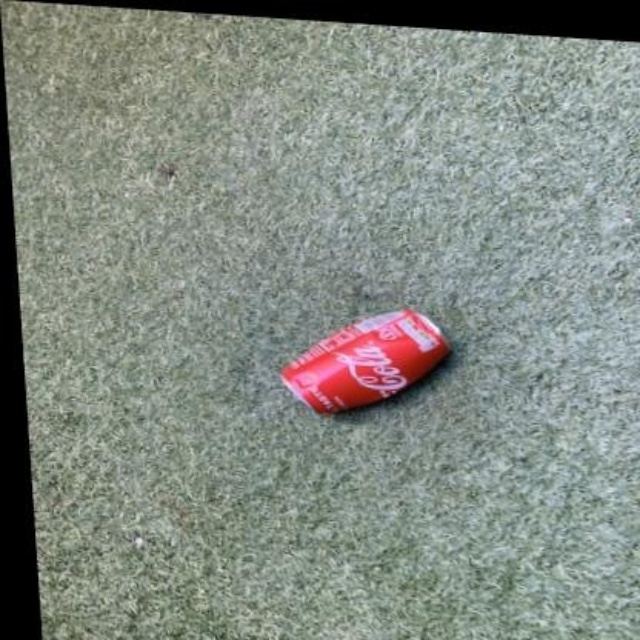trash: (282, 309, 448, 412)
